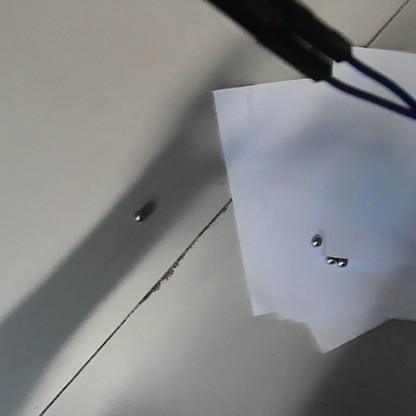ironball: (132, 206, 146, 226), (308, 232, 324, 249), (333, 253, 347, 270), (321, 251, 333, 266)
